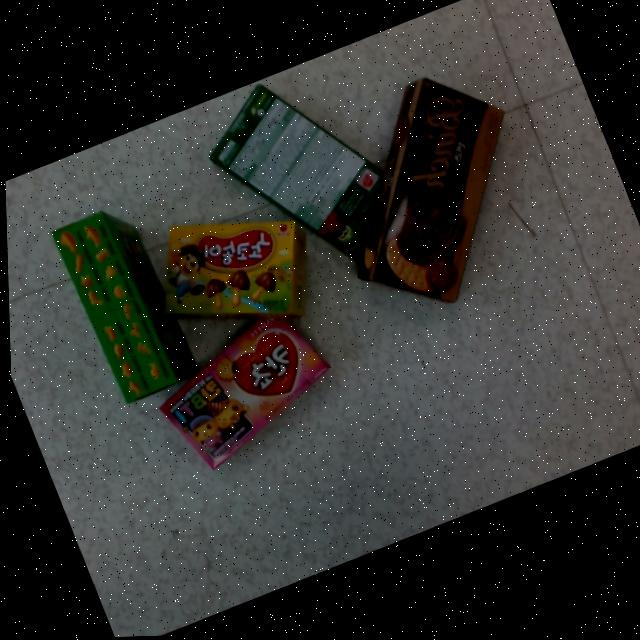box: (208, 85, 399, 262), (356, 80, 504, 306), (51, 211, 198, 405), (157, 308, 327, 473), (162, 223, 306, 320)
